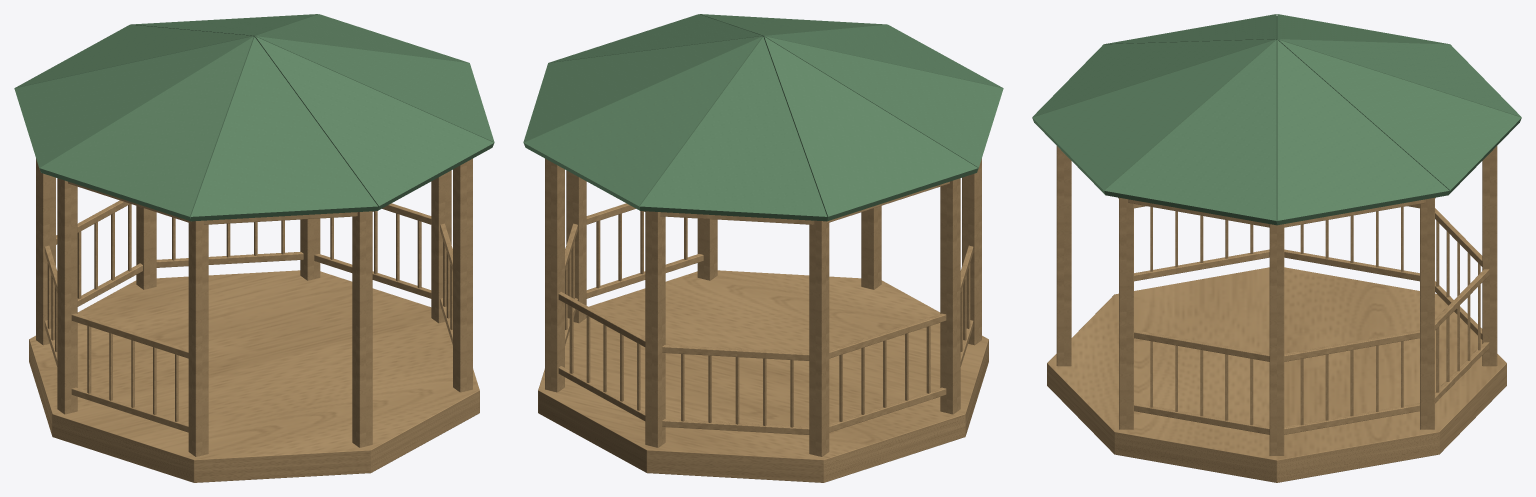
Rendered from gazebo.glb.
The picture shows the model from 3 angles, left to right: view 1: azimuth 30°, elevation 25°; view 2: azimuth 150°, elevation 25°; view 3: azimuth 270°, elevation 25°; orthographic projection.
Visible parts, largest first — view 1: Octagonal raised timber floor, Gazebo roof facet.005, Gazebo roof facet.004, Gazebo roof facet.006, Gazebo roof facet.003, Gazebo roof facet.007, Gazebo perimeter column.006, Gazebo perimeter column.005, Gazebo roof facet.002, Gazebo perimeter column.004, Gazebo perimeter column.007, Gazebo roof facet (+12 smaller); view 2: Octagonal raised timber floor, Gazebo roof facet.002, Gazebo roof facet.003, Gazebo roof facet.001, Gazebo roof facet.004, Gazebo roof facet, Gazebo perimeter column.003, Gazebo perimeter column.002, Gazebo roof facet.005, Gazebo perimeter column.004, Gazebo perimeter column.001, Gazebo roof facet.007 (+13 smaller); view 3: Octagonal raised timber floor, Gazebo roof facet, Gazebo roof facet.007, Gazebo roof facet.001, Gazebo roof facet.006, Gazebo roof facet.002, Gazebo roof facet.005, Gazebo perimeter column, Gazebo perimeter column.001, Gazebo perimeter column.007, Gazebo perimeter column.006, Gazebo perimeter column.002 (+13 smaller).
Part boxes in pixels (x1=…): Octagonal raised timber floor: x1=29, y1=270, x2=479, y2=482; Gazebo roof facet.005: x1=190, y1=37, x2=378, y2=221; Gazebo roof facet.004: x1=39, y1=36, x2=253, y2=221; Gazebo roof facet.006: x1=255, y1=36, x2=493, y2=210; Gazebo roof facet.003: x1=14, y1=36, x2=253, y2=172; Gazebo roof facet.007: x1=255, y1=36, x2=494, y2=147; Gazebo perimeter column.006: x1=352, y1=211, x2=372, y2=447; Gazebo perimeter column.005: x1=188, y1=220, x2=208, y2=456; Gazebo roof facet.002: x1=15, y1=24, x2=253, y2=88; Gazebo perimeter column.004: x1=57, y1=178, x2=77, y2=414; Gazebo perimeter column.007: x1=453, y1=158, x2=472, y2=392; Gazebo roof facet: x1=255, y1=14, x2=468, y2=62; Octagonal raised timber floor: x1=538, y1=270, x2=988, y2=482; Gazebo roof facet.002: x1=639, y1=37, x2=827, y2=221; Gazebo roof facet.003: x1=764, y1=36, x2=978, y2=221; Gazebo roof facet.001: x1=524, y1=36, x2=762, y2=210; Gazebo roof facet.004: x1=764, y1=36, x2=1003, y2=172; Gazebo roof facet: x1=523, y1=36, x2=762, y2=147; Gazebo perimeter column.003: x1=809, y1=220, x2=829, y2=456; Gazebo perimeter column.002: x1=645, y1=211, x2=665, y2=447; Gazebo roof facet.005: x1=764, y1=24, x2=1002, y2=88; Gazebo perimeter column.004: x1=940, y1=178, x2=960, y2=414; Gazebo perimeter column.001: x1=545, y1=158, x2=564, y2=392; Gazebo roof facet.007: x1=549, y1=14, x2=762, y2=62; Octagonal raised timber floor: x1=1047, y1=267, x2=1506, y2=482; Gazebo roof facet: x1=1276, y1=40, x2=1449, y2=225; Gazebo roof facet.007: x1=1104, y1=40, x2=1277, y2=225; Gazebo roof facet.001: x1=1278, y1=39, x2=1521, y2=194; Gazebo roof facet.006: x1=1032, y1=39, x2=1275, y2=194; Gazebo roof facet.002: x1=1278, y1=39, x2=1521, y2=122; Gazebo roof facet.005: x1=1032, y1=39, x2=1275, y2=122; Gazebo perimeter column: x1=1269, y1=224, x2=1284, y2=455; Gazebo perimeter column.001: x1=1420, y1=197, x2=1434, y2=429; Gazebo perimeter column.007: x1=1119, y1=197, x2=1133, y2=429; Gazebo perimeter column.006: x1=1056, y1=146, x2=1071, y2=366; Gazebo perimeter column.002: x1=1482, y1=146, x2=1497, y2=366.
Size of the model in its own units: 4.26 by 3.33 by 4.26.
2 materials, 2 textured.
